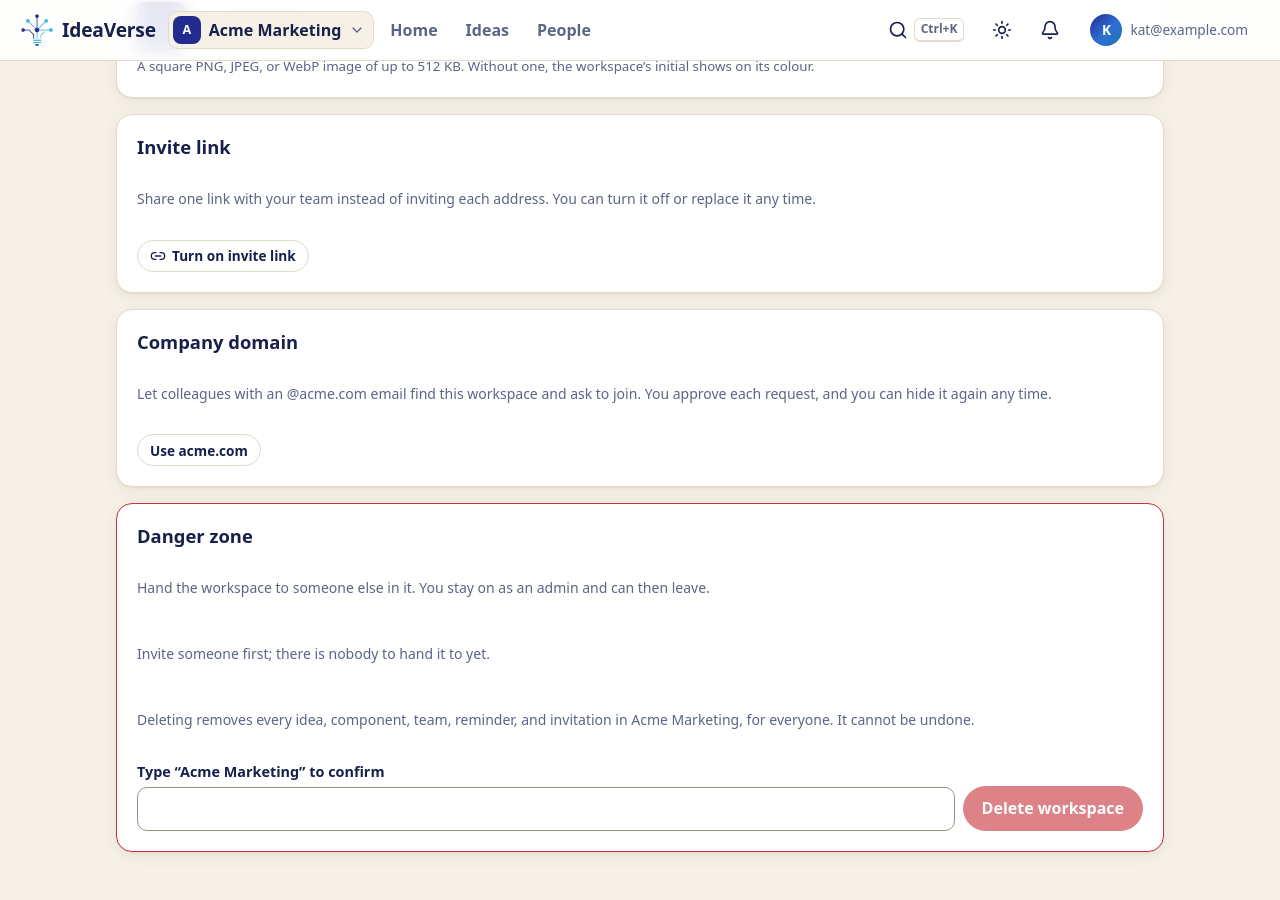
Company domain and join requests › turns on the suggested domain, then hides the workspace again
(page scrolled)
Click the button "Use acme.com" at (199, 450), box [137,434,261,466]
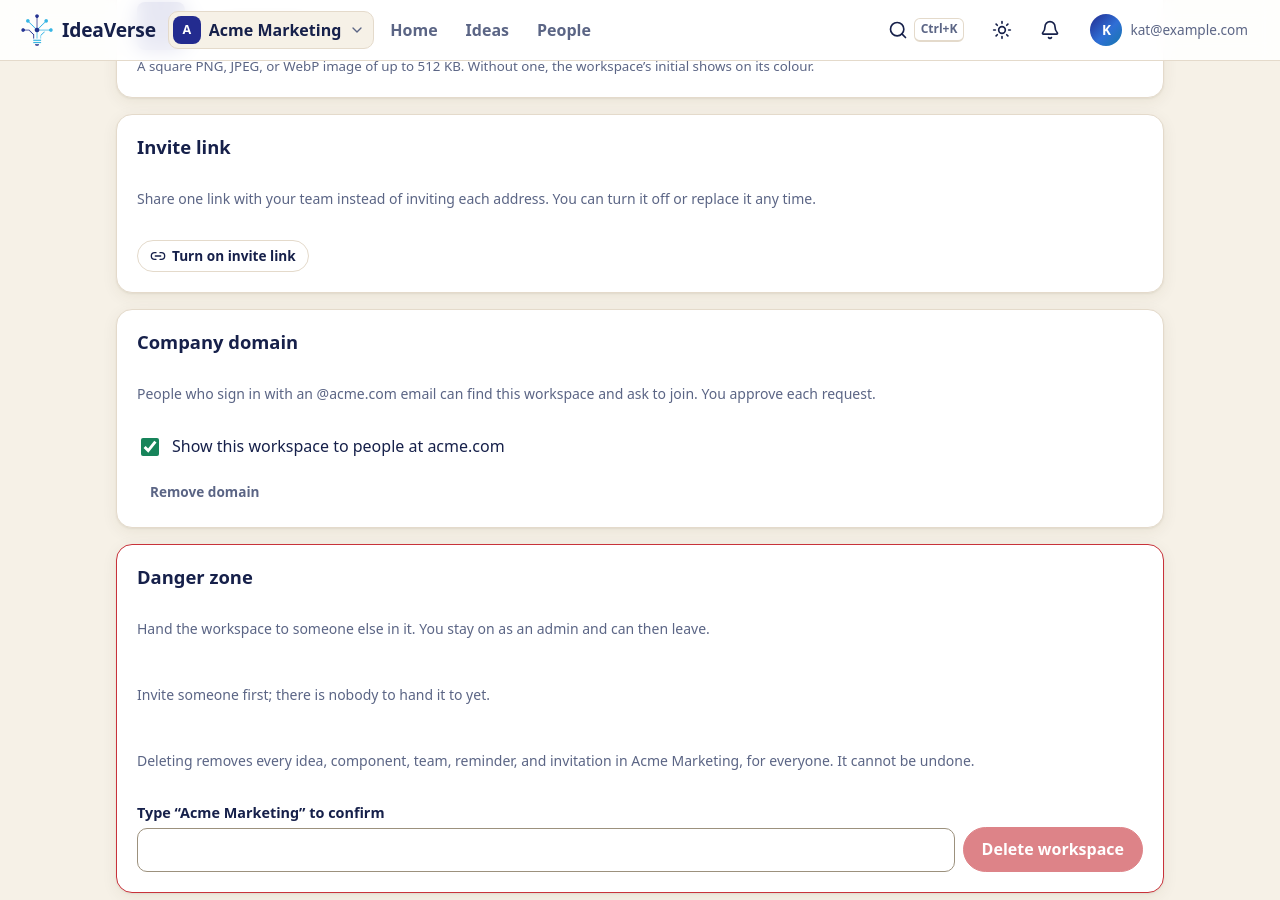
Check: the text "People who sign in with an @acme.com email can find this workspace" is shown, box [137,384,876,403]
Click the checkbox labelled "Show this workspace to people at acme.com" at (150, 448), box [141,438,159,456]
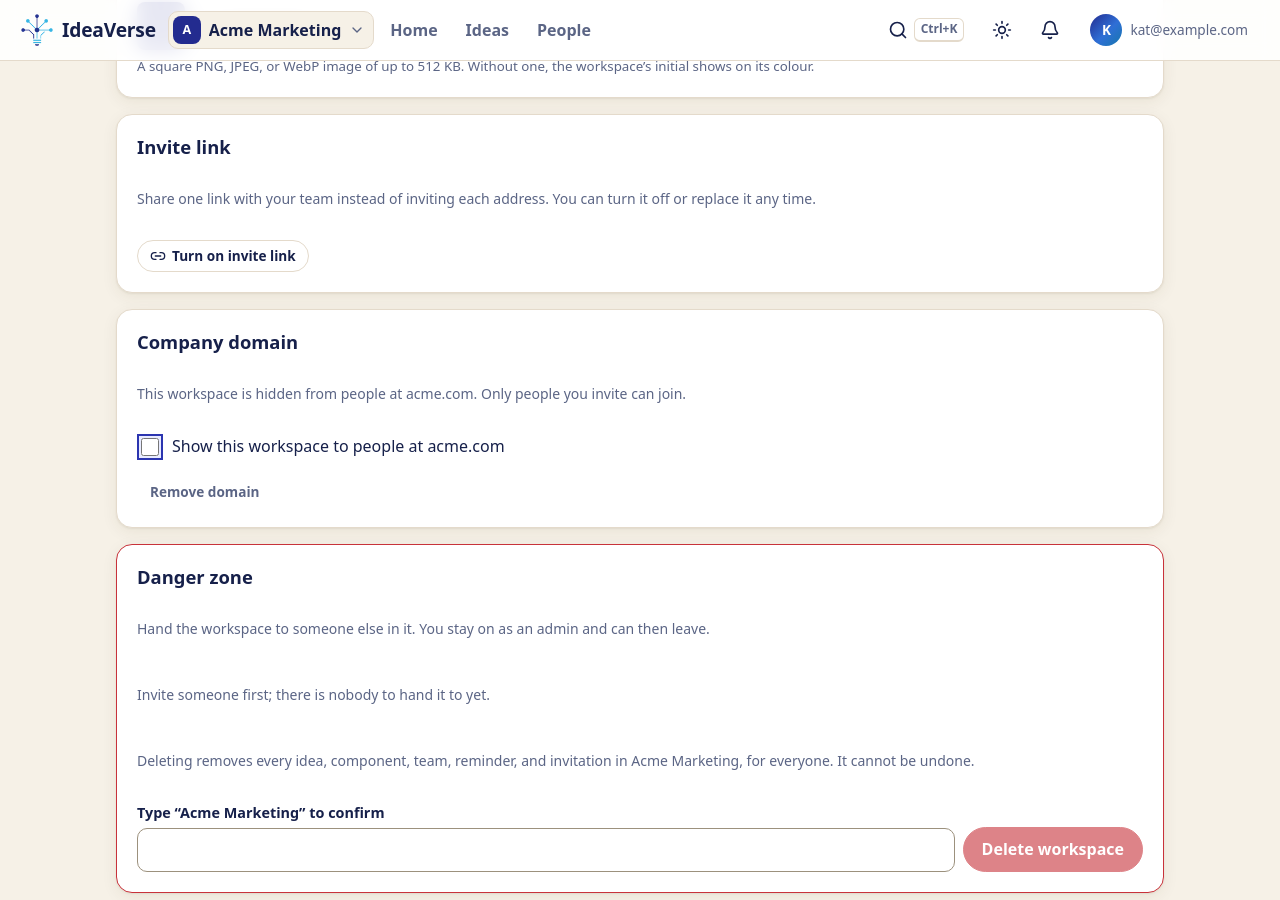
Check: the text "This workspace is hidden from people at acme.com. Only people you invite can join." is shown, box [137,384,686,403]
